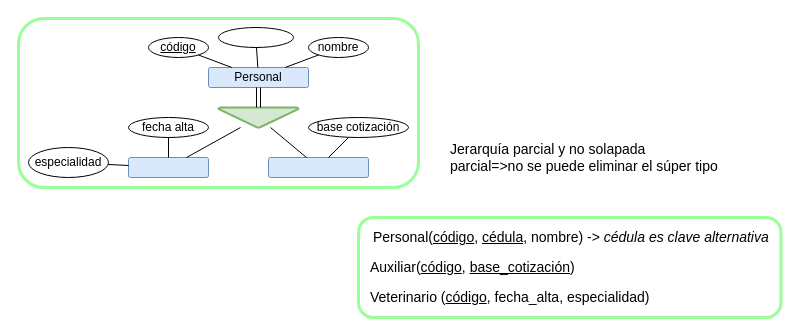
Some shapes in this 808 by 336 pixel diagram are drawn without their labels. The shapes that lost their labels are listed below. From the top down, each one's box as (x1, y1, x2, y2) in pixels, then its label:
(218, 26, 294, 48): cédula
(128, 156, 208, 178): Veterinario
(268, 156, 368, 178): Auxiliar
